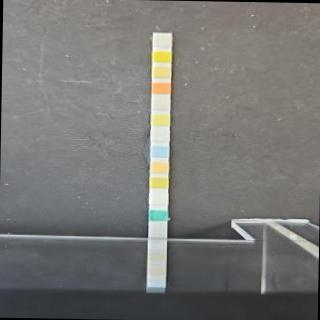mark: (152, 50, 172, 63), (151, 82, 170, 95), (150, 98, 170, 110), (150, 130, 170, 142), (150, 146, 170, 158), (148, 209, 168, 221), (152, 36, 171, 48), (150, 114, 169, 126), (150, 161, 169, 173), (152, 66, 170, 78), (150, 192, 168, 204), (150, 177, 168, 188)
